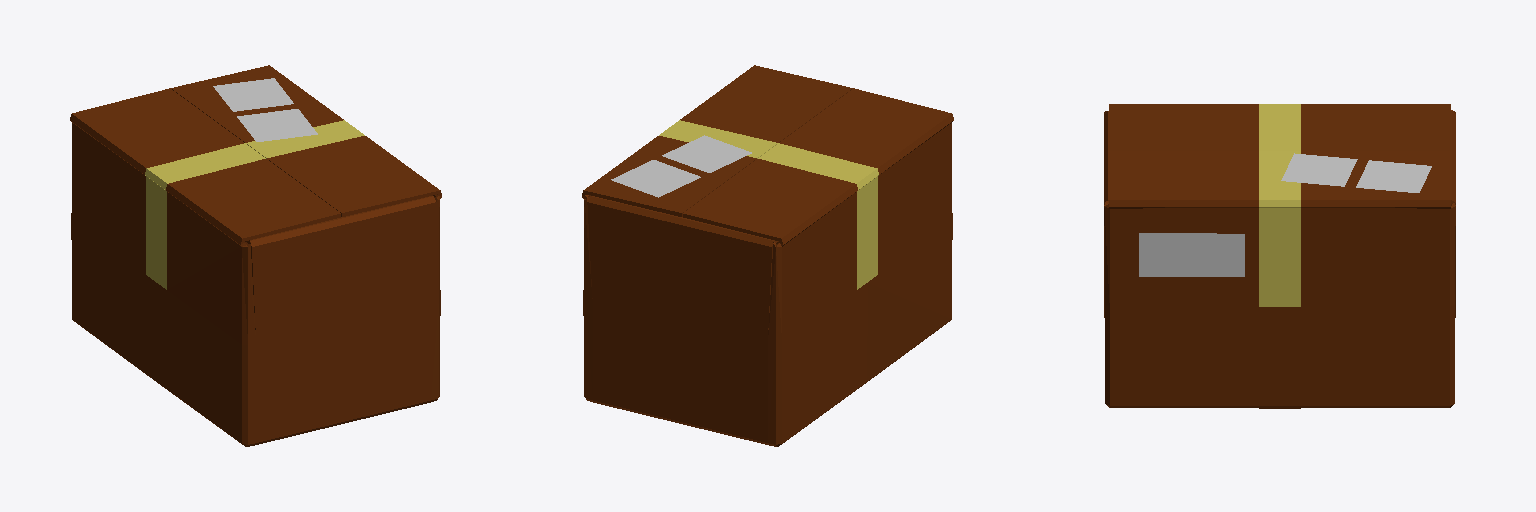
File: Cardboard.021.obj
3 renders of one model, left to right at view 1: azimuth 30°, elevation 25°; view 2: azimuth 150°, elevation 25°; view 3: azimuth 270°, elevation 25°, orthographic.
Visible parts, largest first — view 1: Cardboard.021_Cube.008, sign2.015_sign2.002, sign4.011_sign4.008; view 2: Cardboard.021_Cube.008, sign2.015_sign2.002, sign4.011_sign4.008; view 3: Cardboard.021_Cube.008, codeBArre.014_codeBArre.009, sign2.015_sign2.002, sign4.011_sign4.008.
Part boxes in pixels (bbox=[...]): Cardboard.021_Cube.008: bbox=[70, 65, 441, 446]; sign2.015_sign2.002: bbox=[237, 109, 317, 141]; sign4.011_sign4.008: bbox=[213, 78, 293, 111]; Cardboard.021_Cube.008: bbox=[582, 65, 953, 446]; sign2.015_sign2.002: bbox=[662, 135, 751, 172]; sign4.011_sign4.008: bbox=[611, 160, 700, 197]; Cardboard.021_Cube.008: bbox=[1104, 104, 1455, 408]; codeBArre.014_codeBArre.009: bbox=[1139, 233, 1244, 276]; sign2.015_sign2.002: bbox=[1281, 153, 1357, 186]; sign4.011_sign4.008: bbox=[1356, 160, 1431, 192].
Bounding box in the file's own units: 0.3856 × 0.3882 × 0.5834.